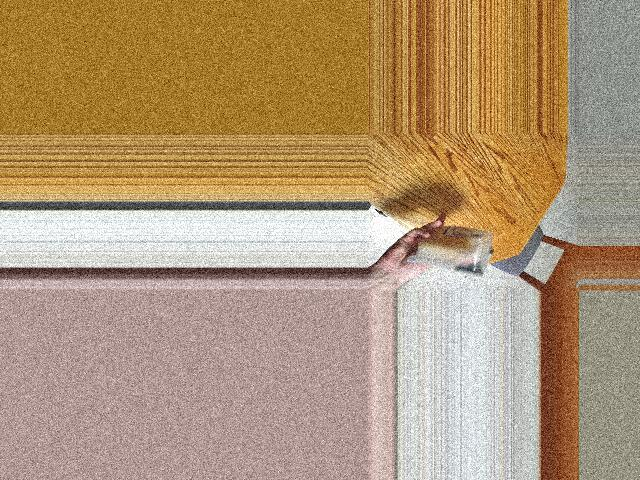cheese: (421, 227, 487, 270)
